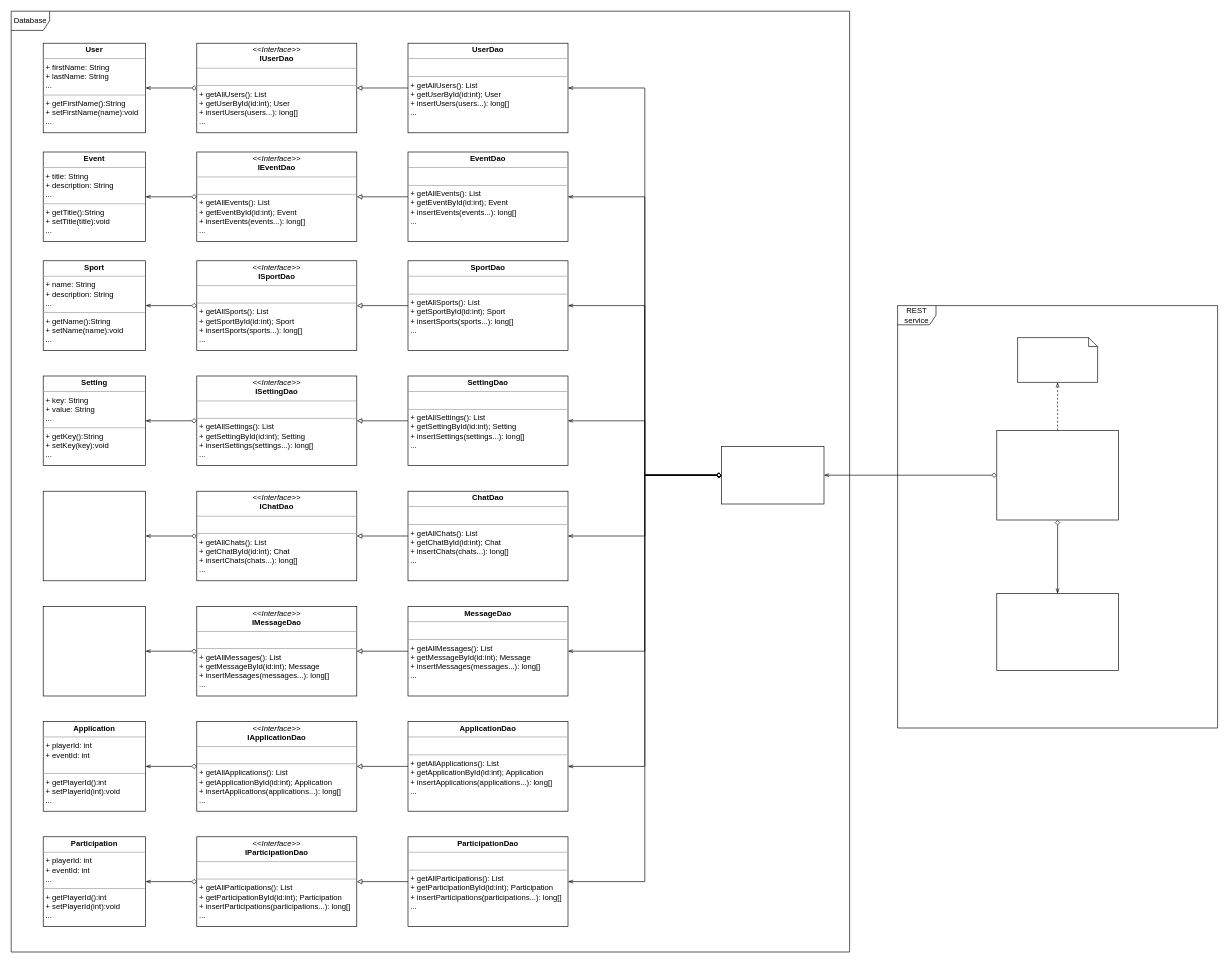
Image size: 1229x963. Some labels were removed from this diagram. Here are the shapes that lost their labels. From the top down, the centre of each, then its label:
the point at 1057,359: Receives request, processes request, returns requested data
the point at 772,475: SportDb - INSTANCE: SportDb + getInstance(): SportDb
the point at 1057,475: RestController
the point at 94,536: Chat + id: int + title: String + getTitle():String + setTitle(title):void ...
the point at 94,651: Message + id: int + text: String ... + getText():String + setText(text):void ...
the point at 1057,631: RestHandler - httpStatuses: Array + getHttpStatus(code: int) + encodeJson(data)
